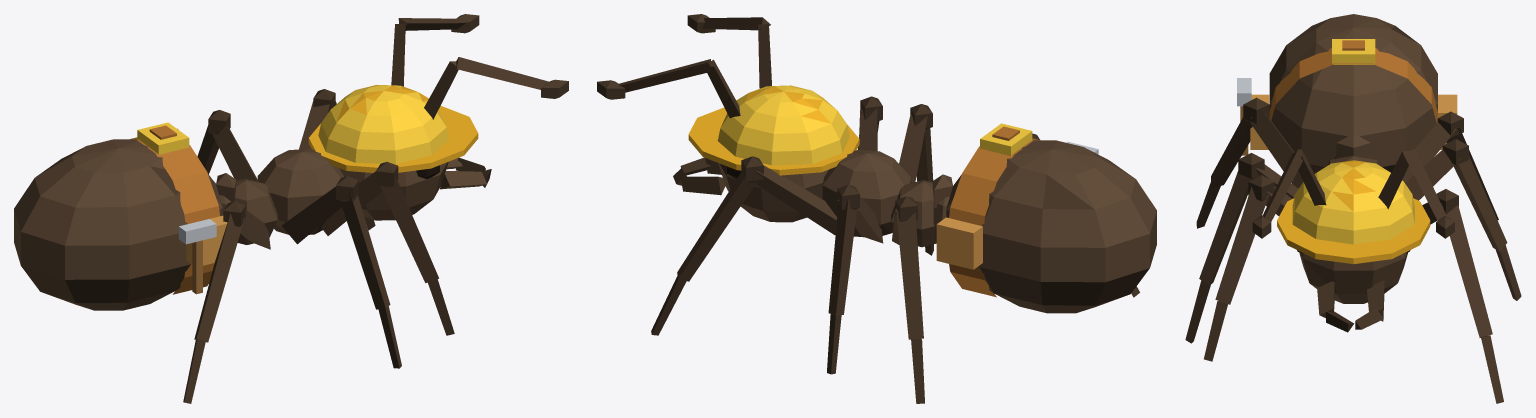
The model's file is ants-builder.glb.
3 renders of one model, left to right at view 1: azimuth 30°, elevation 25°; view 2: azimuth 150°, elevation 25°; view 3: azimuth 270°, elevation 25°, orthographic. The views are drawn at different scales.
Bounding box in the file's own units: 13.08 × 6.12 × 7.4.
